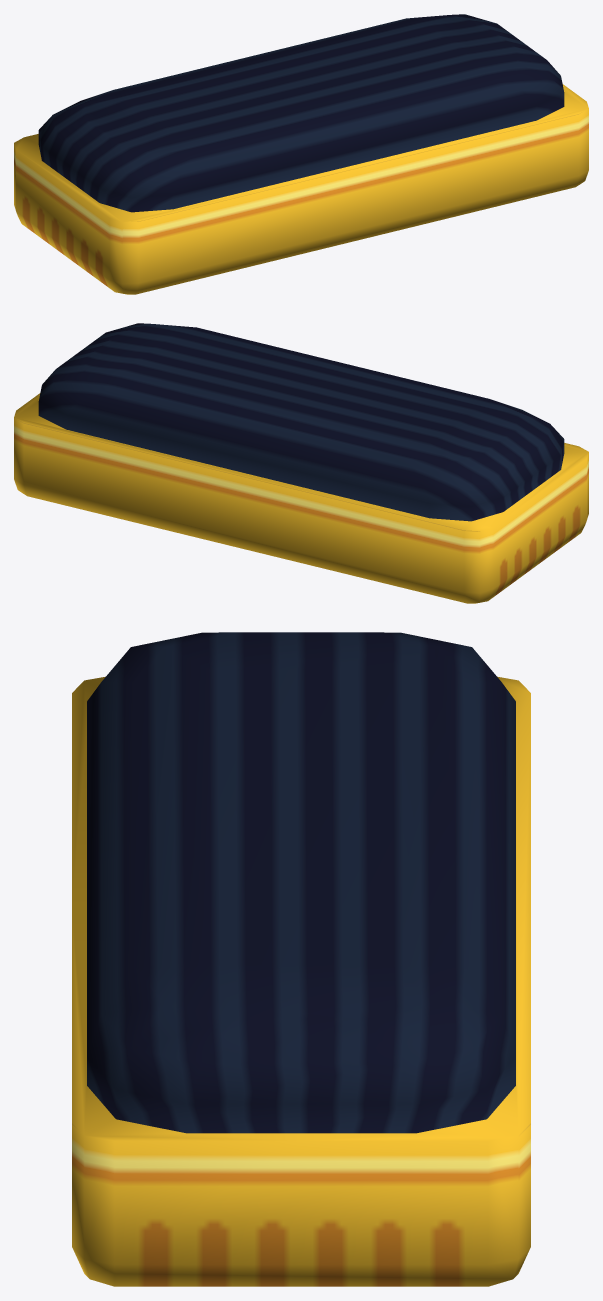
The model's file is brush.glb.
The picture shows the model from 3 angles, top to bottom: view 1: azimuth 30°, elevation 25°; view 2: azimuth 150°, elevation 25°; view 3: azimuth 270°, elevation 25°; orthographic projection. The views are drawn at different scales.
Parts seen in each view (by area): view 1: Cube; view 2: Cube; view 3: Cube.
Part boxes in pixels (bbox=[...]): Cube: bbox=[14, 14, 588, 294]; Cube: bbox=[14, 323, 588, 603]; Cube: bbox=[72, 632, 530, 1286].
Size of the model in its own units: 1.15 by 0.291 by 0.4787.
Materials: 2 (2 with a texture image).
